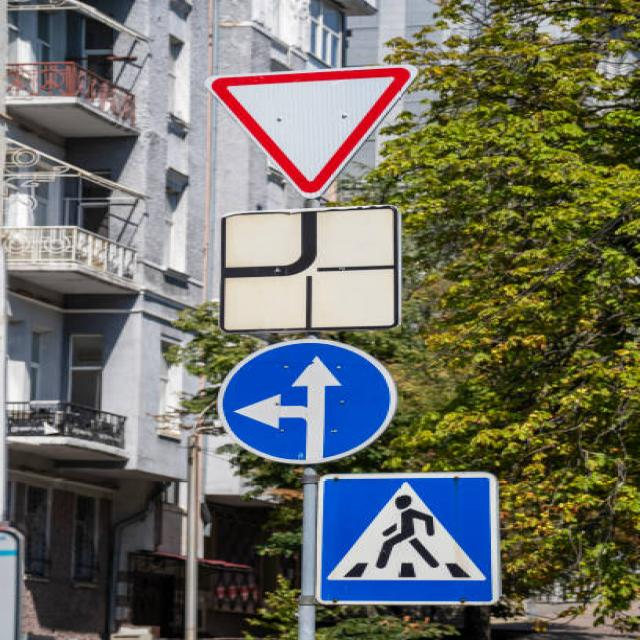crosswalk: (314, 469, 522, 618)
give_way: (207, 62, 435, 200)
